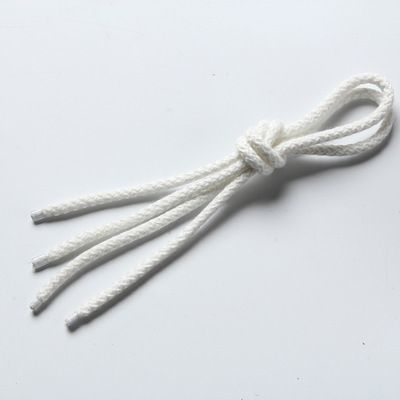9/可回收垃圾/绳子: (28, 72, 396, 333)
